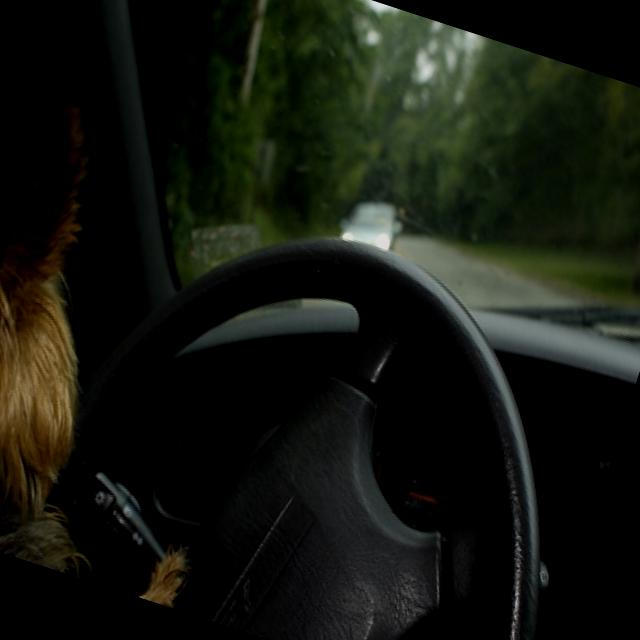Vehicle: (335, 192, 410, 254)
